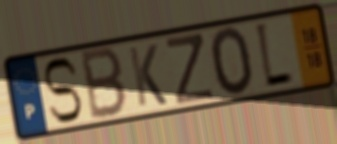B: (79, 45, 129, 123)
K: (126, 42, 169, 110)
L: (252, 20, 296, 93)
O: (208, 25, 256, 100)
S: (41, 56, 84, 126)
Z: (164, 32, 217, 108)
